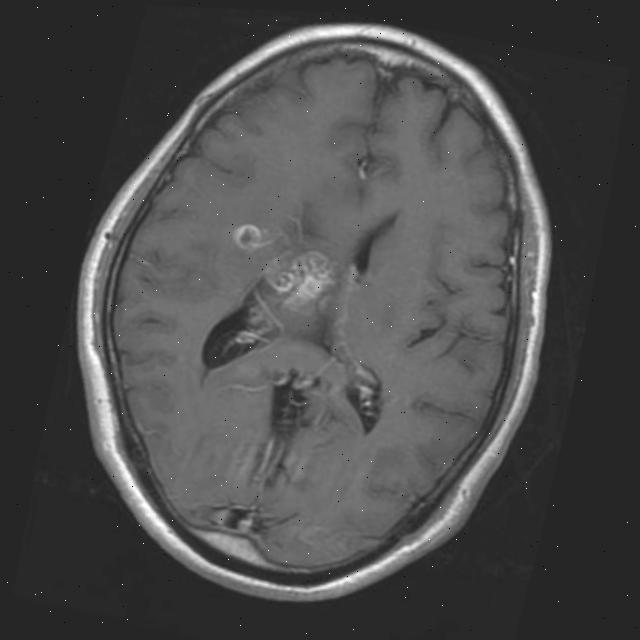Glioma: (233, 237, 345, 363), (229, 218, 265, 252)
